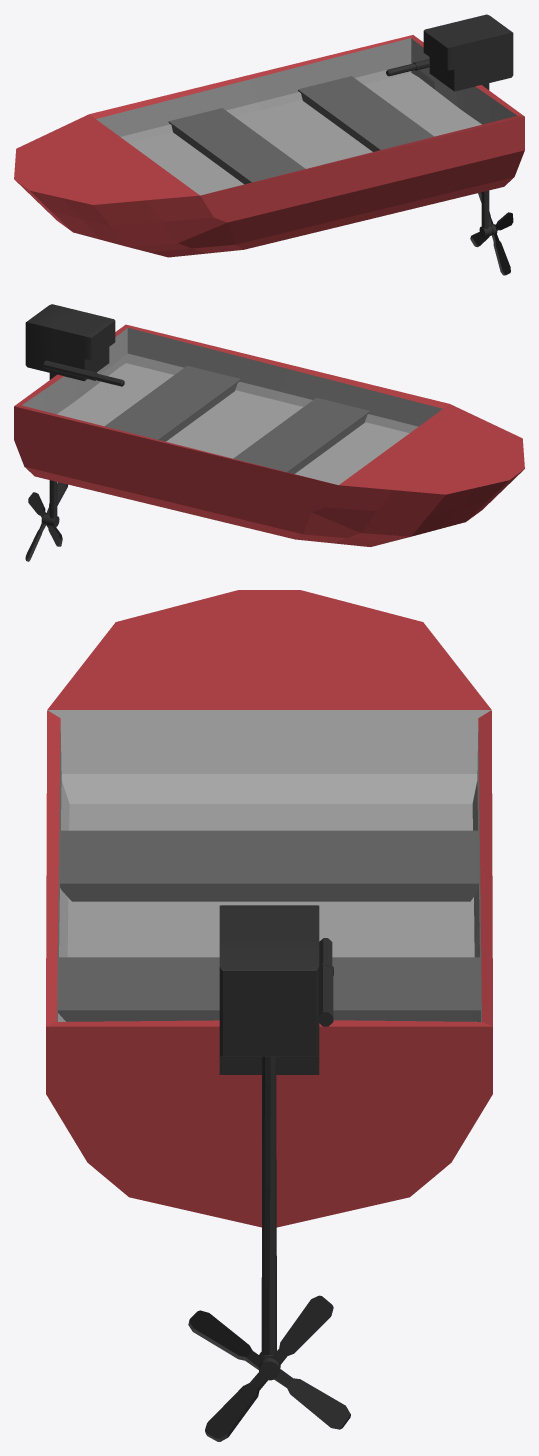
File: Boat.glb
The picture shows the model from 3 angles, top to bottom: view 1: azimuth 30°, elevation 25°; view 2: azimuth 150°, elevation 25°; view 3: azimuth 270°, elevation 25°; orthographic projection. The views are drawn at different scales.
Visible parts, largest first — view 1: Body, Seats, Motor; view 2: Body, Seats, Motor; view 3: Body, Seats, Motor.
Boxes of the visible parts, x1,y1,x2,y2 form: Body: (14,35,524,257); Seats: (168,76,433,184); Motor: (386,14,513,275); Body: (14,324,524,546); Seats: (105,365,370,473); Motor: (25,304,124,561); Body: (46,590,492,1227); Seats: (58,830,480,1021); Motor: (188,905,350,1441).
Size of the model in its own units: 9.91 by 4.75 by 4.
